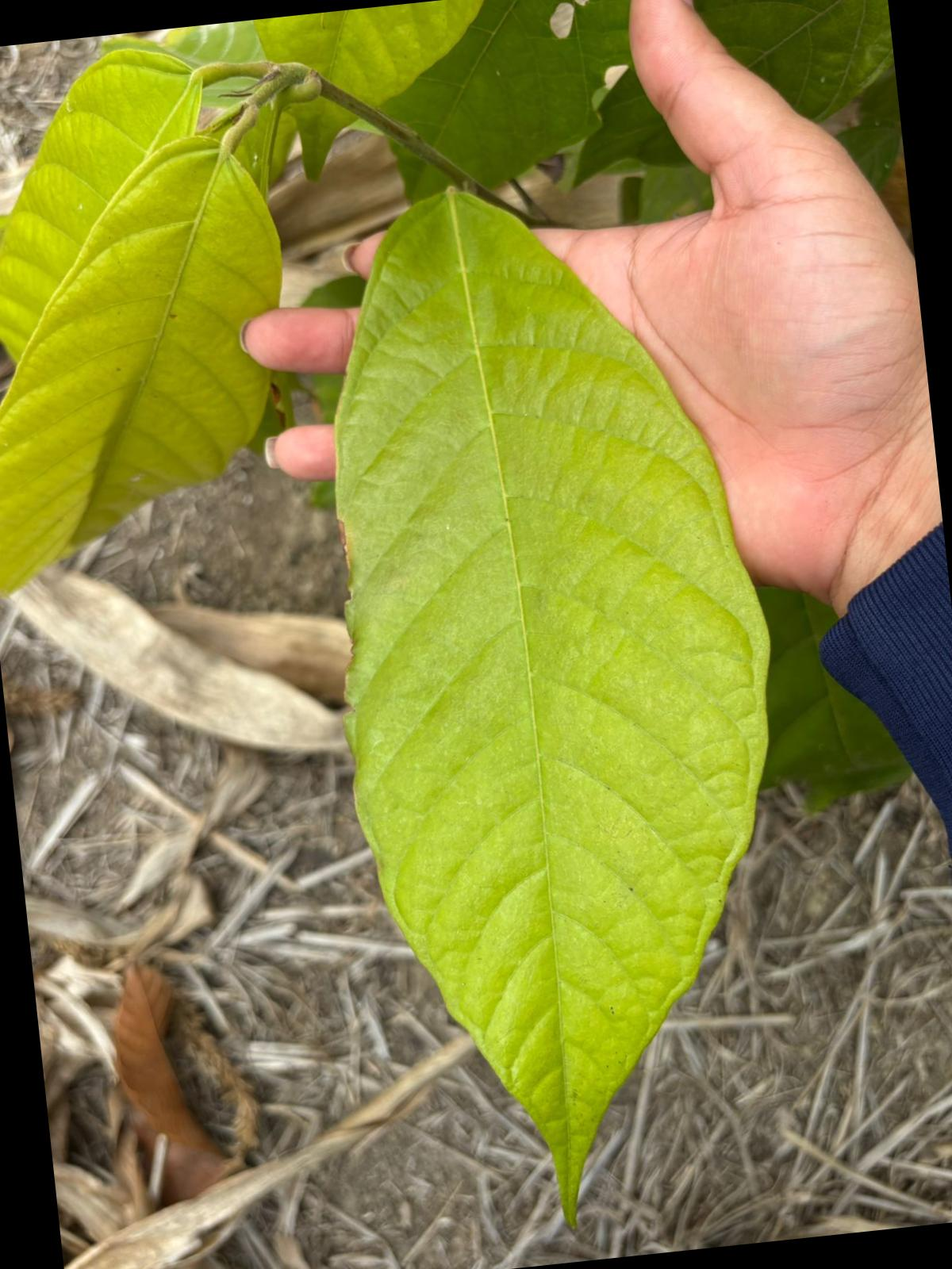Nitrogeno: (338, 191, 769, 1219), (0, 137, 281, 591)
